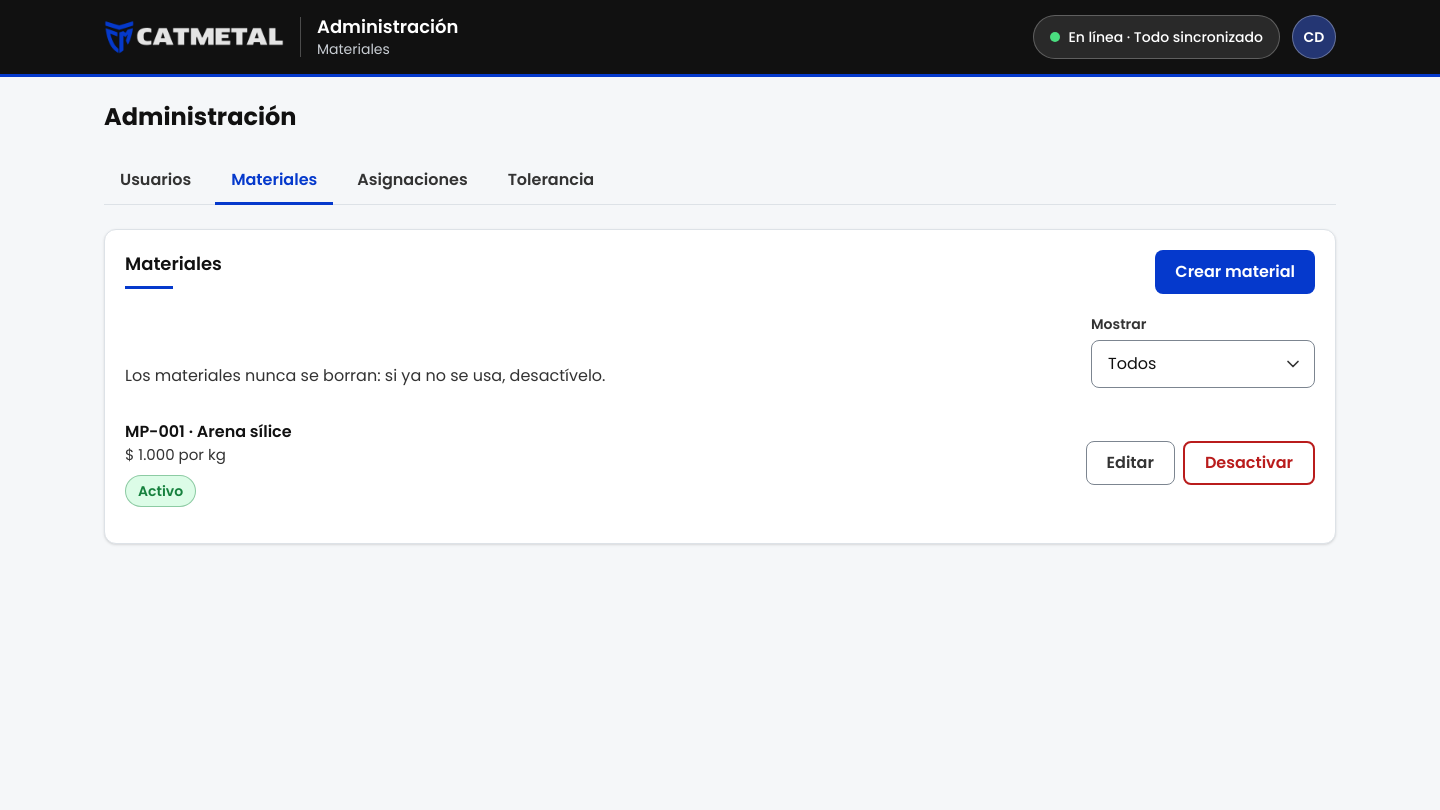
Scenario: Administración · materiales › editar costo avisa que los consumos registrados no cambian; código y unidad no se editan
Click the button with aria-label "Editar el material MP-001" at (1130, 463), box [1086,441,1175,485]
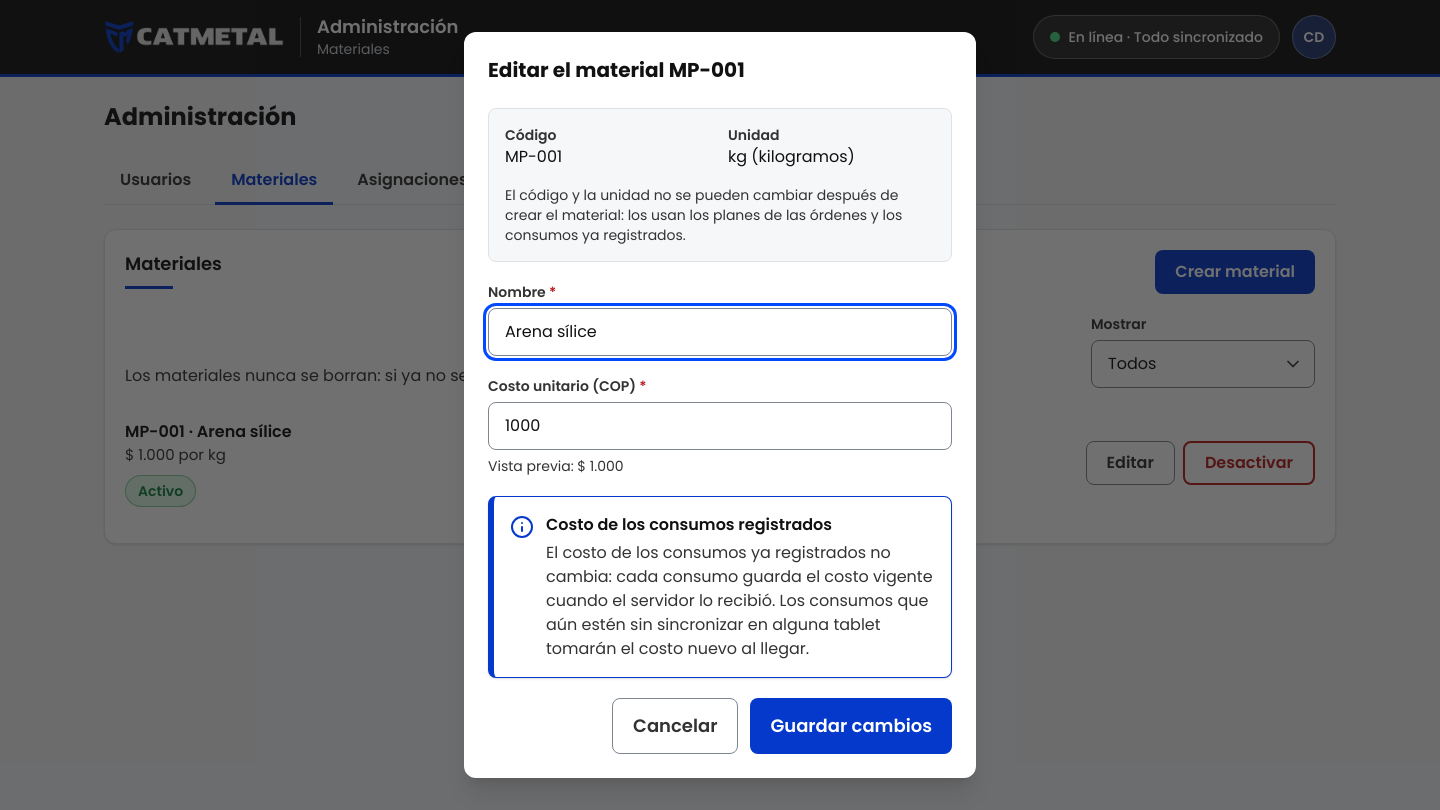
Result: the text "kg (kilogramos)" is shown at [728,145,855,168]
Result: the dialog "Editar el material MP-001" shows "El código y la unidad no se pueden cambiar después de crear el material: los usan los planes de las órdenes y los consumos ya registrados." at [505,185,902,245]
Result: the dialog "Editar el material MP-001" shows "El costo de los consumos ya registrados no cambia: cada consumo guarda el costo vigente cuando el servidor lo recibió. Los consumos que aún estén sin sincroniza" at [546,541,933,660]
Replace the text in the field labelled "Costo unitario (COP) *" with "1.500" at (720, 426), box [488,402,952,450]
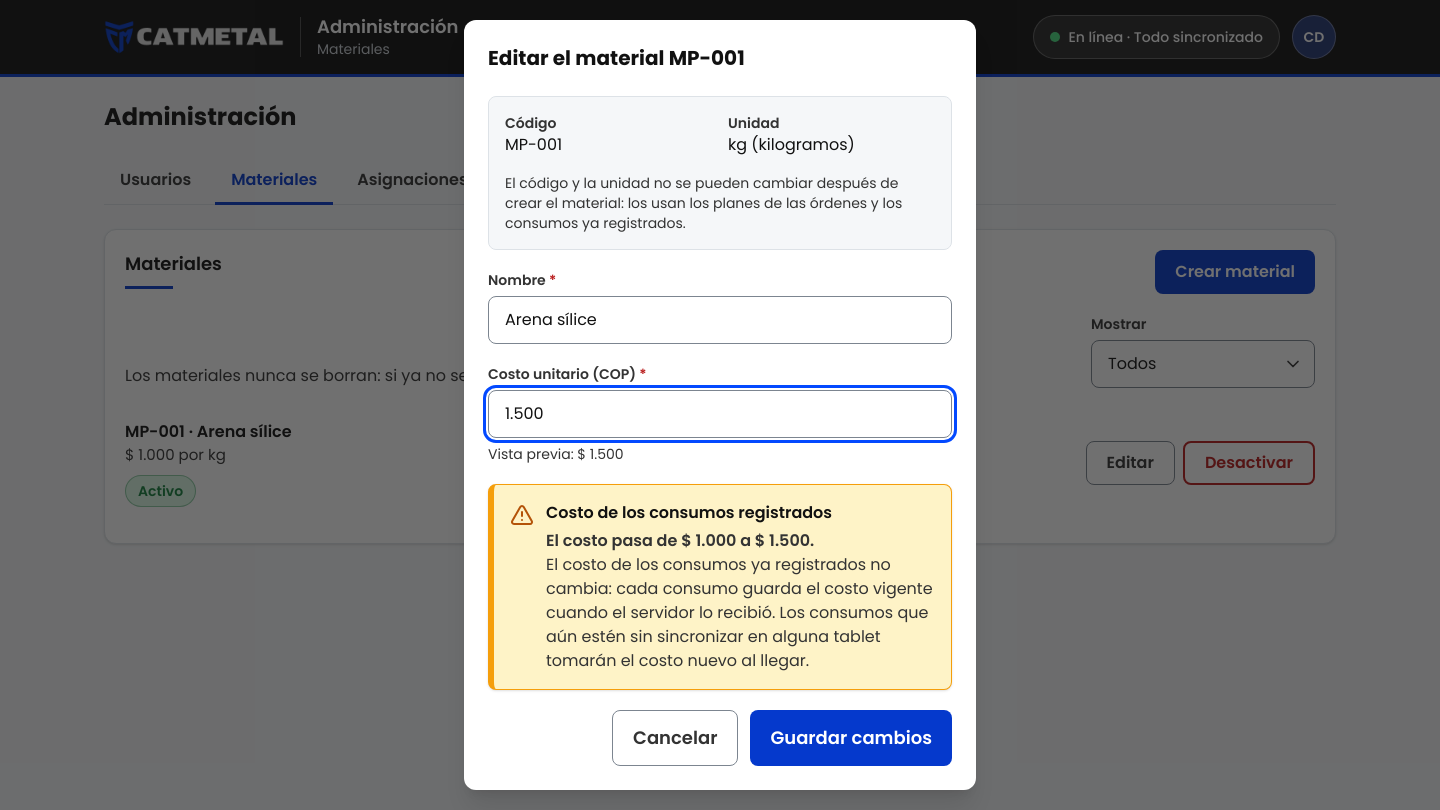
Result: the text "El costo pasa de $ 1.000 a $ 1.500." is shown at [546,529,814,552]
Click the button "Guardar cambios" at (851, 738), box [750,710,952,766]
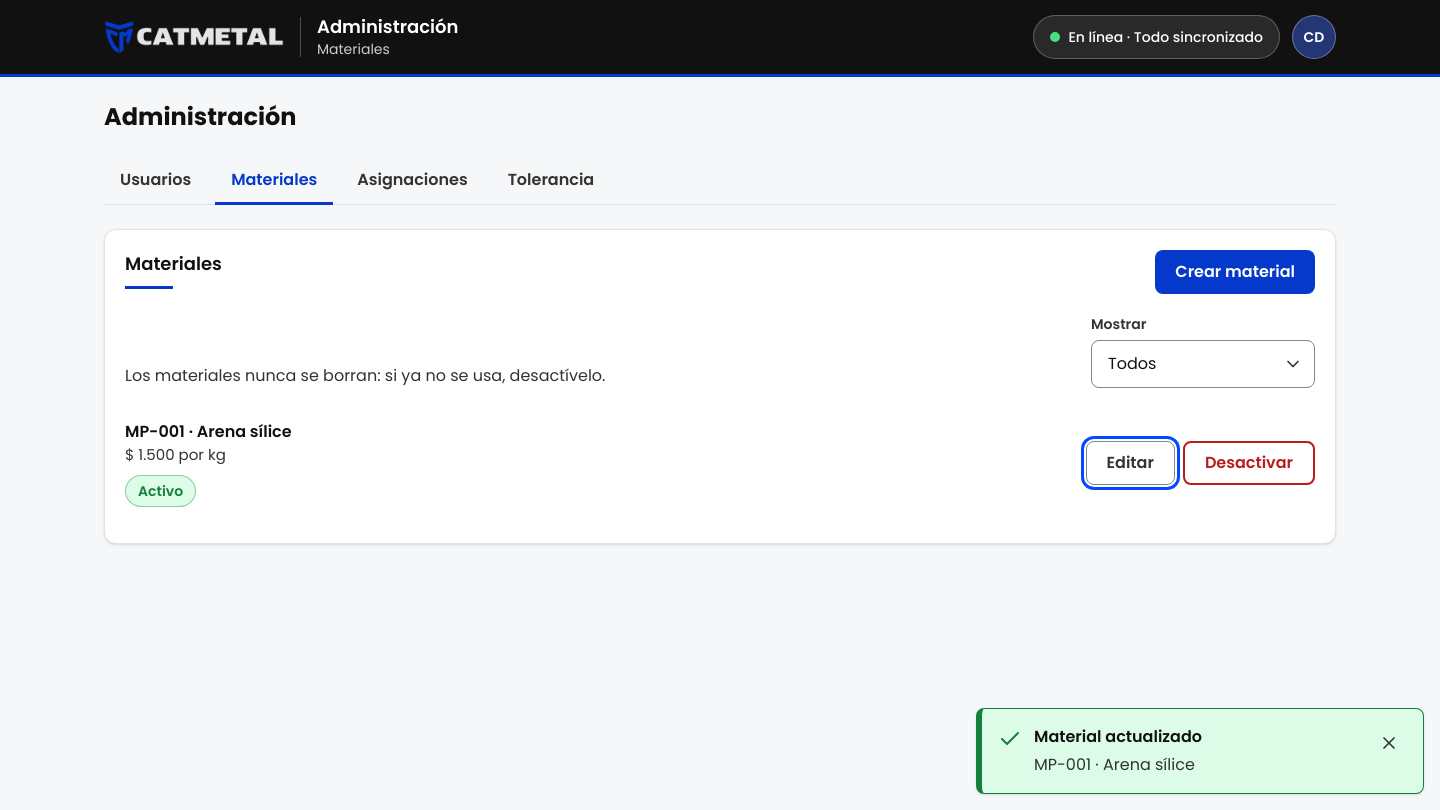
Result: the text "Material actualizado" is shown at [1033,724,1202,748]
